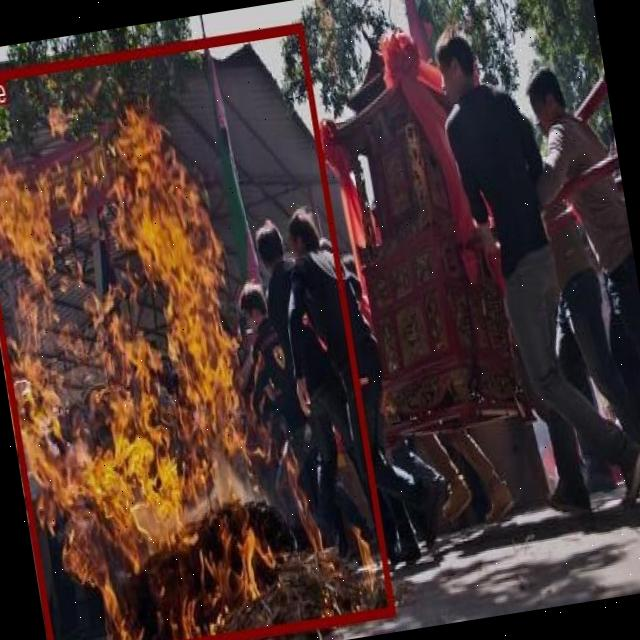fire: (0, 21, 395, 640)
